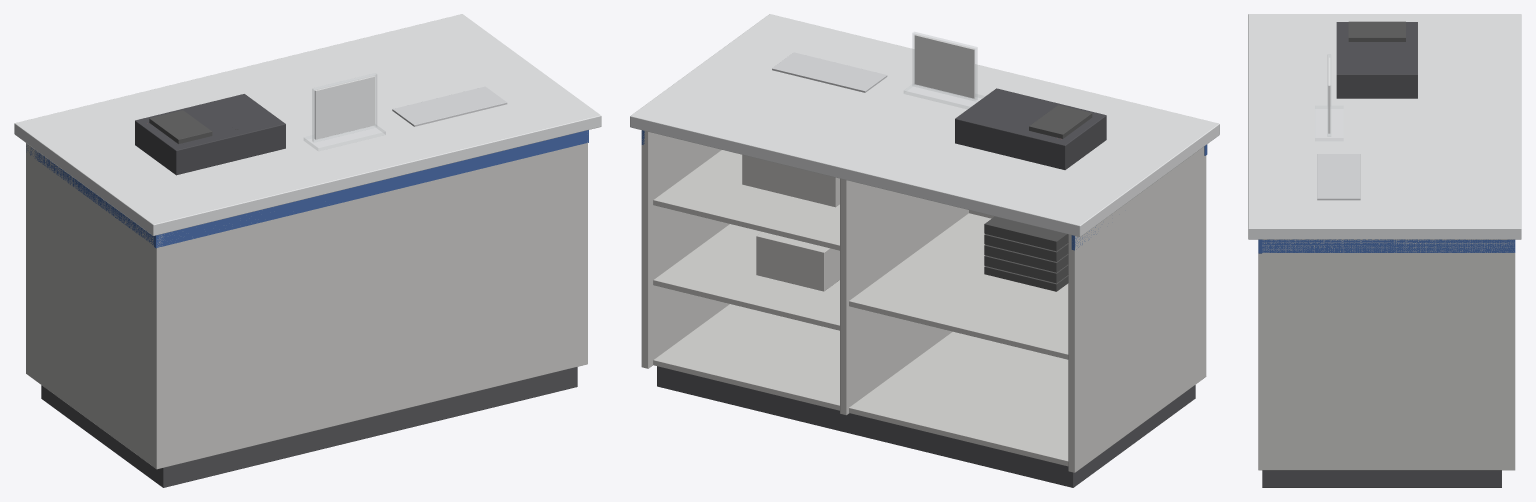
The model's file is secondary-service-counter.glb.
3 views of the same model, side by side, from view 1: azimuth 30°, elevation 25°; view 2: azimuth 150°, elevation 25°; view 3: azimuth 270°, elevation 25° (orthographic). The views are drawn at different scales.
Visible parts, largest first — view 1: CounterFrontPanel, CountertopMain, CounterEndPanelLeft, CounterPlinth, RewinderChassis, AccentBandFront, SignAcrylicFrame, SignInformationCard, ReturnChuteBezel, CounterEndPanelRight, RewinderTapeLeft, AccentBandLeft (+1 smaller); view 2: CountertopMain, CounterEndPanelLeft, ShelfFloorLeft, ShelfMidLeft, CounterCenterDivider, ShelfFloorRight, CounterEndPanelRight, CounterPlinth, ShelfMidRight, ShelfUpperRight, RewinderChassis, SupplyBox2 (+11 smaller); view 3: CounterEndPanelRight, CountertopMain, RewinderChassis, CounterPlinth, AccentBandRight, ReturnChuteBezel, RewinderTapeLeft, SignAcrylicBase, CounterFrontPanel, SignAcrylicFrame.
Boxes of the visible parts, x1,y1,x2,y2 form: CounterFrontPanel: (156, 144, 581, 468); CountertopMain: (14, 14, 601, 235); CounterEndPanelLeft: (26, 143, 163, 469); CounterPlinth: (41, 367, 577, 487); RewinderChassis: (135, 94, 285, 175); AccentBandFront: (154, 130, 588, 248); SignAcrylicFrame: (312, 73, 376, 142); SignInformationCard: (314, 76, 374, 139); ReturnChuteBezel: (392, 86, 507, 126); CounterEndPanelRight: (581, 142, 587, 365); RewinderTapeLeft: (149, 110, 212, 143); AccentBandLeft: (26, 145, 159, 247); CountertopMain: (630, 14, 1219, 236); CounterEndPanelLeft: (1068, 146, 1206, 472); ShelfFloorLeft: (849, 331, 1068, 466); ShelfMidLeft: (849, 213, 1068, 359); CounterCenterDivider: (840, 178, 968, 415); ShelfFloorRight: (653, 304, 839, 410); CounterEndPanelRight: (641, 131, 729, 368); CounterPlinth: (657, 366, 1195, 487); ShelfMidRight: (653, 224, 839, 330); ShelfUpperRight: (653, 150, 839, 250); RewinderChassis: (955, 88, 1106, 169); SupplyBox2: (756, 231, 839, 291); CounterEndPanelRight: (1258, 239, 1515, 470); CountertopMain: (1248, 14, 1521, 239); RewinderChassis: (1336, 22, 1417, 98); CounterPlinth: (1262, 470, 1501, 487); AccentBandRight: (1262, 239, 1515, 252); ReturnChuteBezel: (1317, 154, 1360, 200); RewinderTapeLeft: (1348, 21, 1405, 41); SignAcrylicBase: (1315, 106, 1343, 140); CounterFrontPanel: (1258, 246, 1265, 470); SignAcrylicFrame: (1327, 54, 1330, 136).
Bounding box in the file's own units: 5.3 × 3.72 × 2.85.
